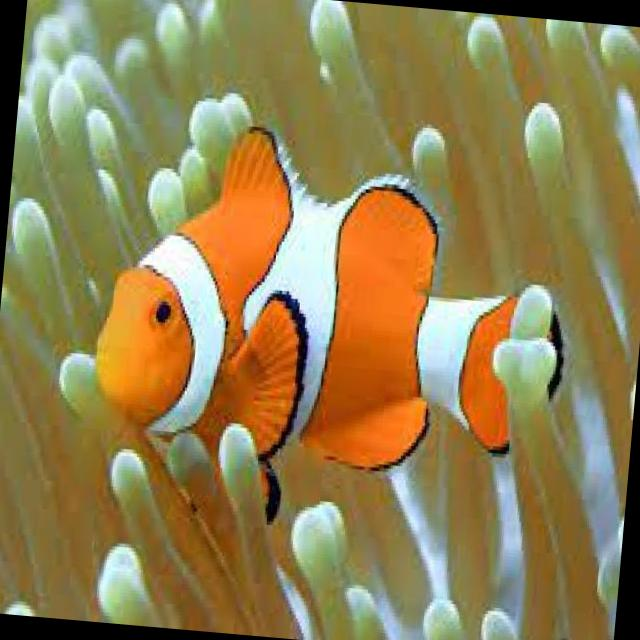ClownFish: (84, 115, 586, 534)
